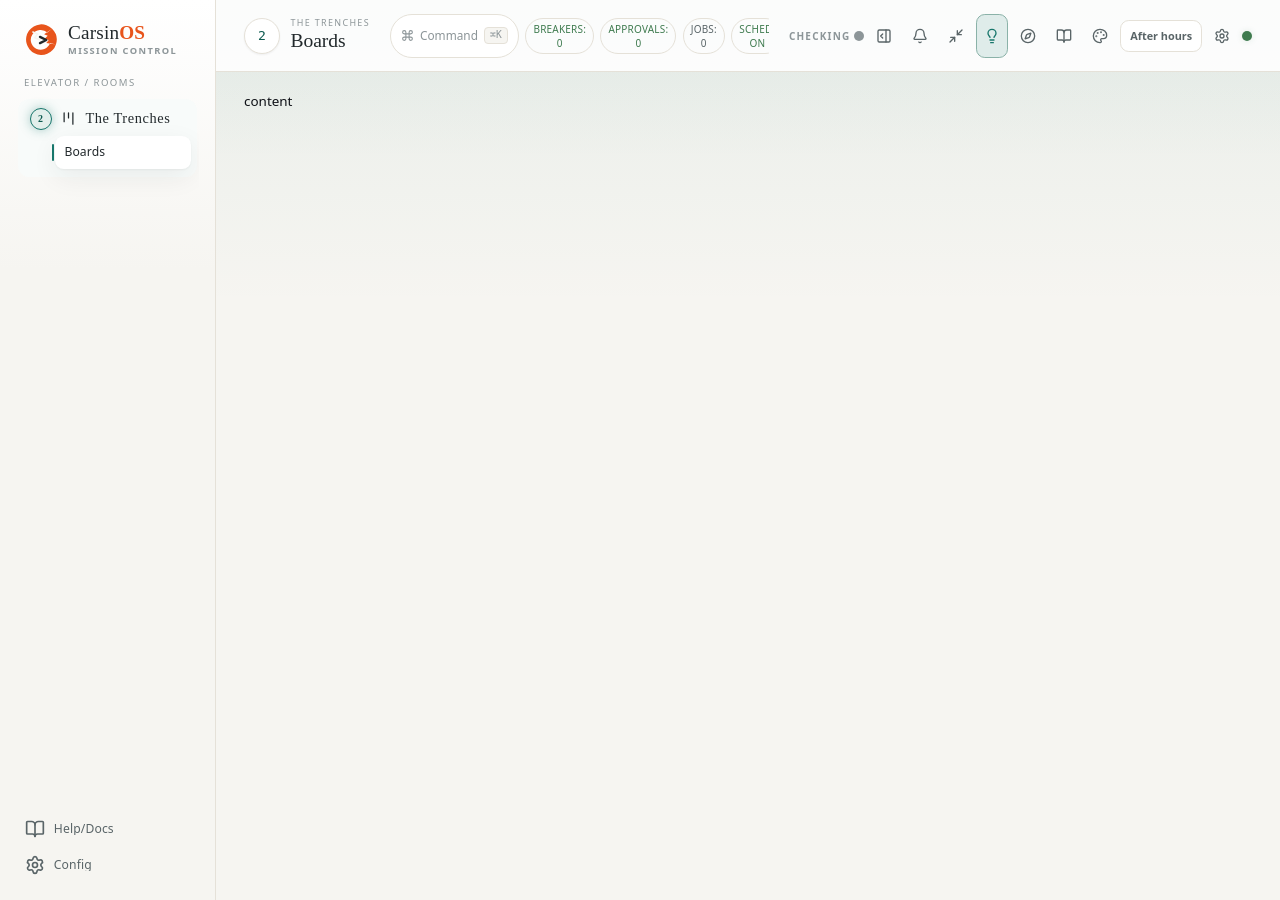
Test case: AppShell live feed toggle › does not render the old Appearance section inside settings
Click the button "Config" at (108, 865), box [16,848,199,882]
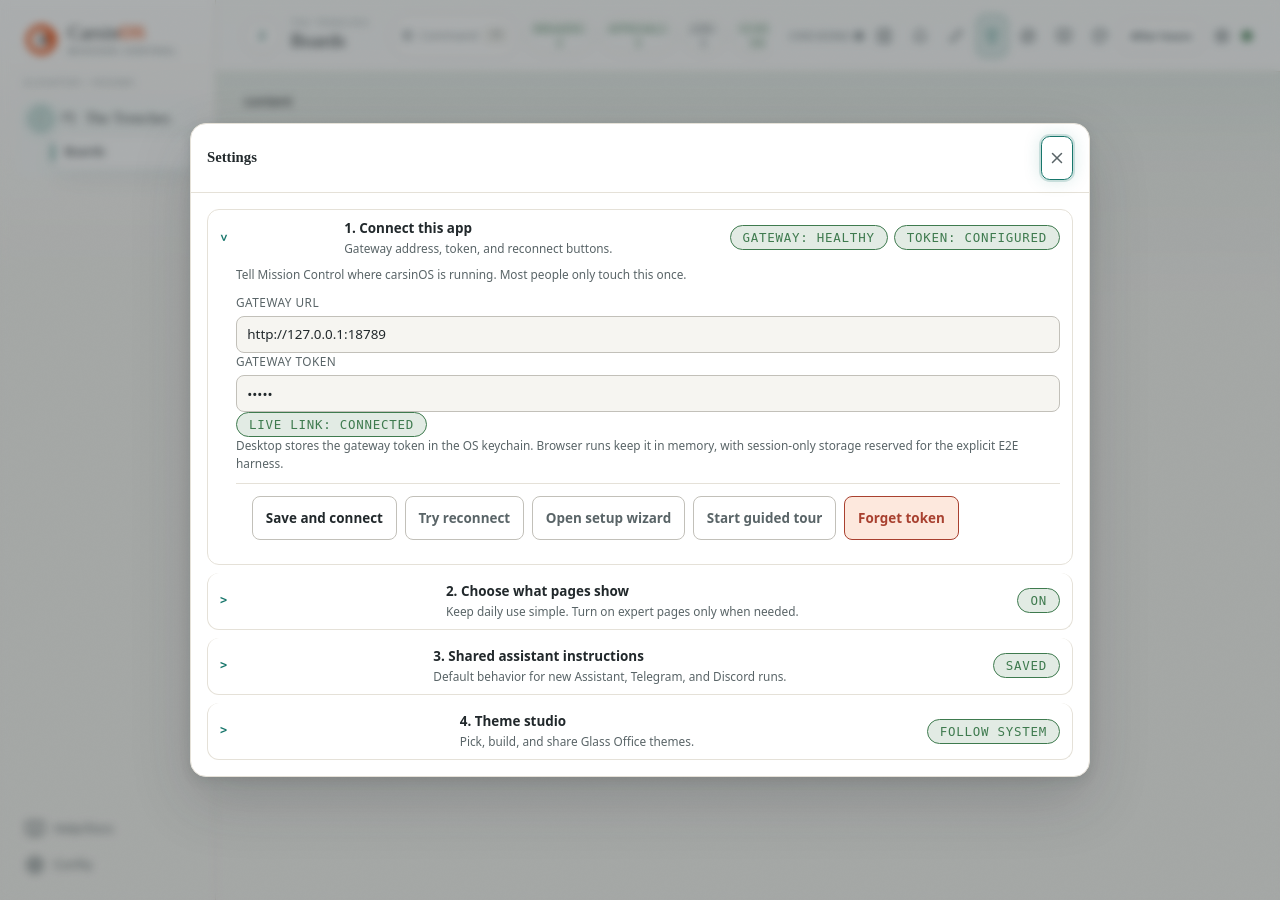
Now the text "assistant" is shown, box [433,647,644,665]
